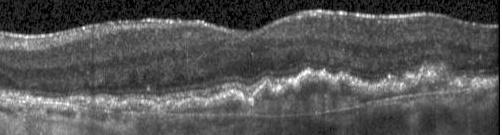subretinal_hyperreflective_material: (171, 63, 499, 115), (67, 94, 161, 114)
